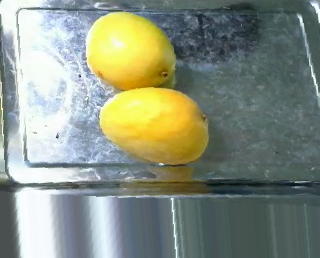Mango: (93, 86, 218, 164), (78, 9, 185, 86)
